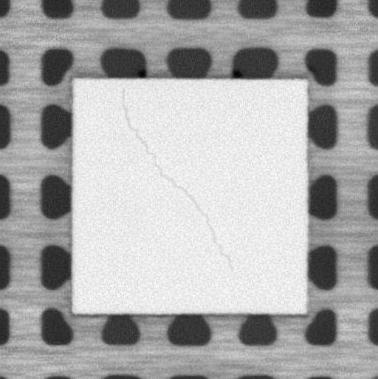DIE_CRACK: (121, 88, 234, 269)
